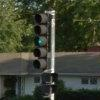Traffic light: (28, 8, 61, 77)
